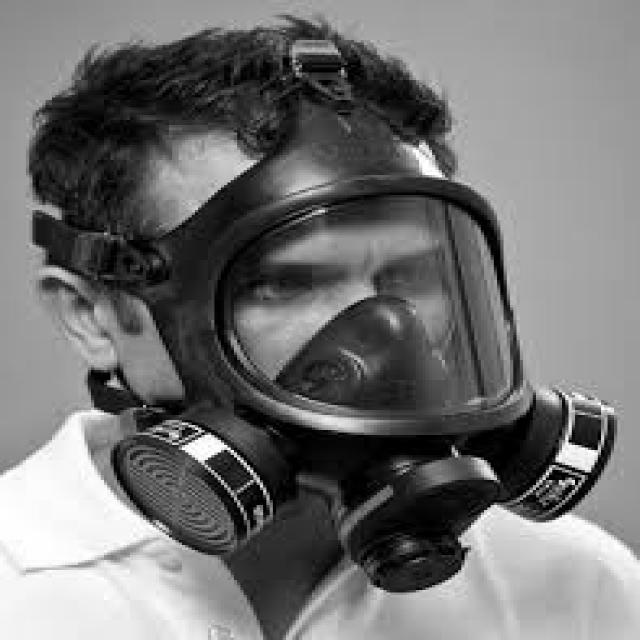without_mask: (32, 30, 618, 588)
